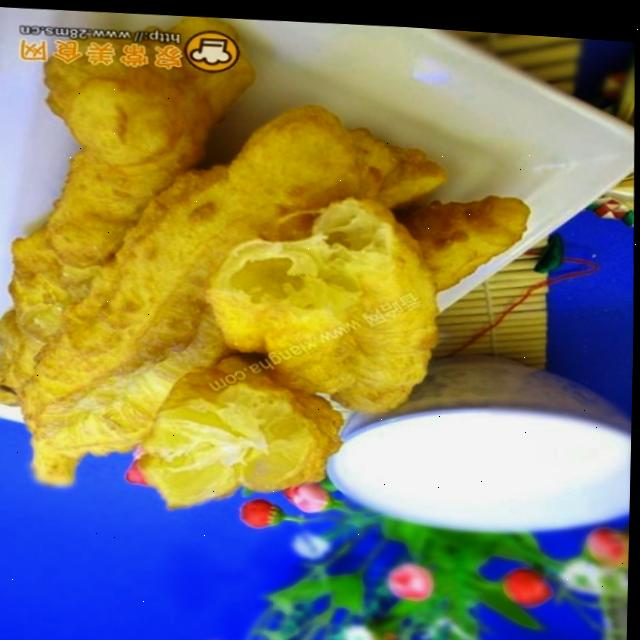炸货点心: (8, 7, 617, 582)
